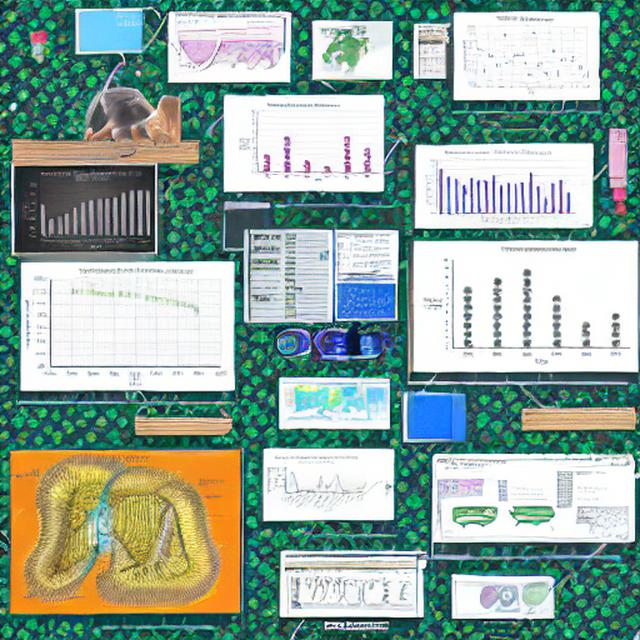Graph: (416, 242, 636, 370), (22, 264, 230, 387), (234, 101, 380, 187), (422, 148, 575, 227), (19, 170, 155, 252), (460, 17, 591, 97), (265, 454, 369, 516), (338, 283, 394, 318)
